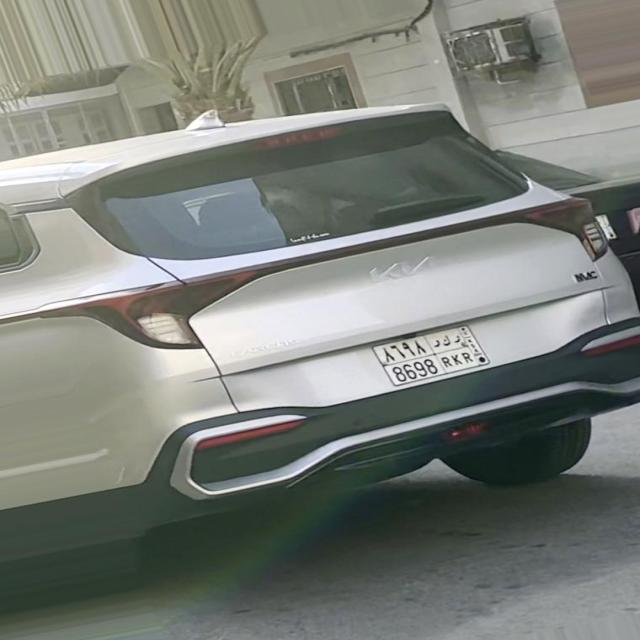Car-plate: (356, 313, 516, 398)
